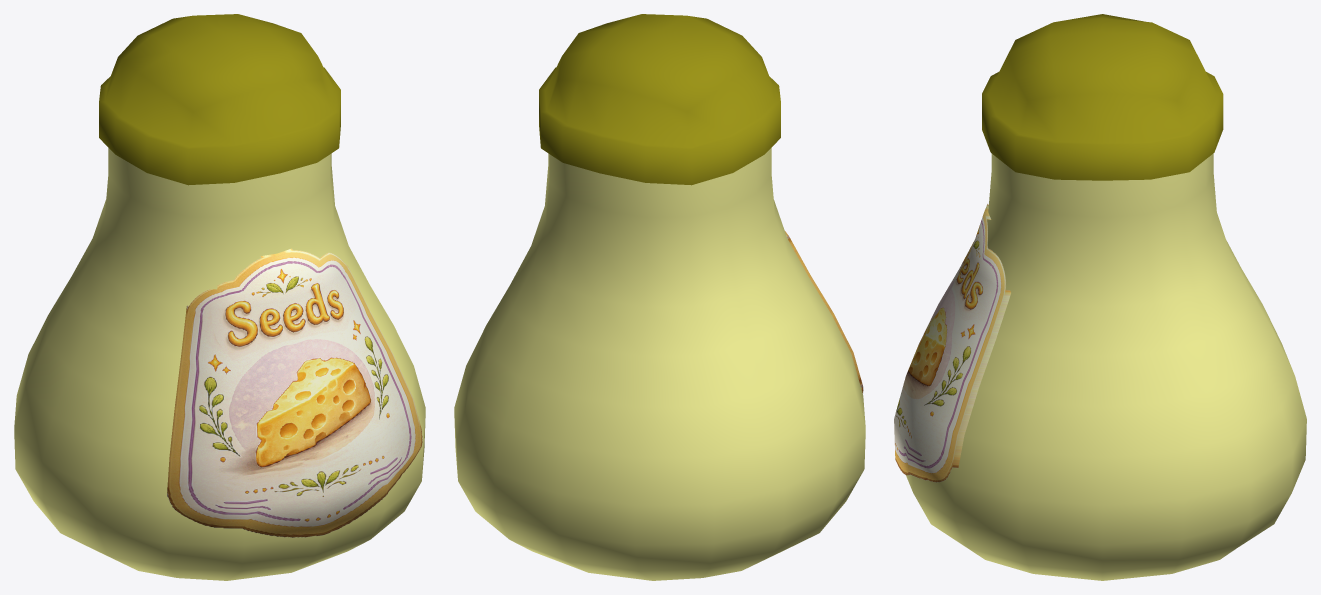
Rendered from seed_cheese.glb.
The picture shows the model from 3 angles, left to right: view 1: azimuth 30°, elevation 25°; view 2: azimuth 150°, elevation 25°; view 3: azimuth 270°, elevation 25°; orthographic projection.
Parts seen in each view (by area): view 1: seed_cheese; view 2: seed_cheese; view 3: seed_cheese.
Part boxes in pixels (x1=…): seed_cheese: x1=14, y1=14, x2=425, y2=580; seed_cheese: x1=454, y1=14, x2=865, y2=580; seed_cheese: x1=894, y1=14, x2=1306, y2=580.
Size of what is drawn, in the model's own units: 0.3161 by 0.4348 by 0.3193.
Materials: 3 (1 with a texture image).
